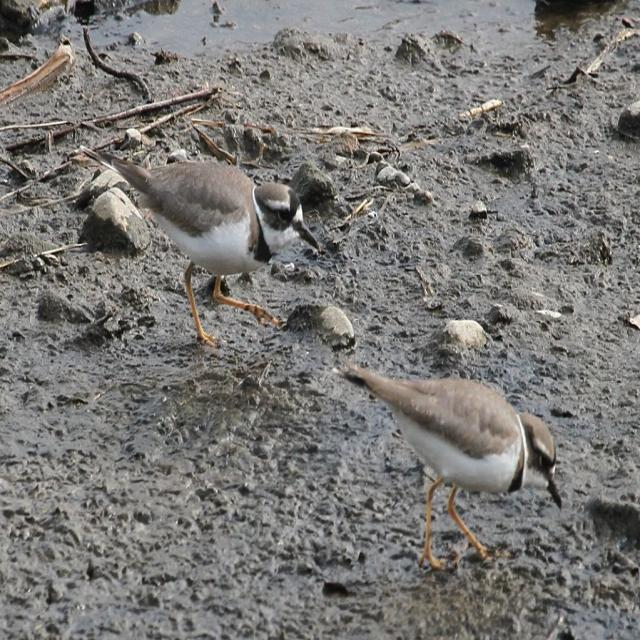bird: (343, 359, 569, 586), (93, 136, 314, 342), (533, 18, 626, 90), (434, 31, 486, 76), (372, 156, 405, 192), (0, 162, 27, 194)
